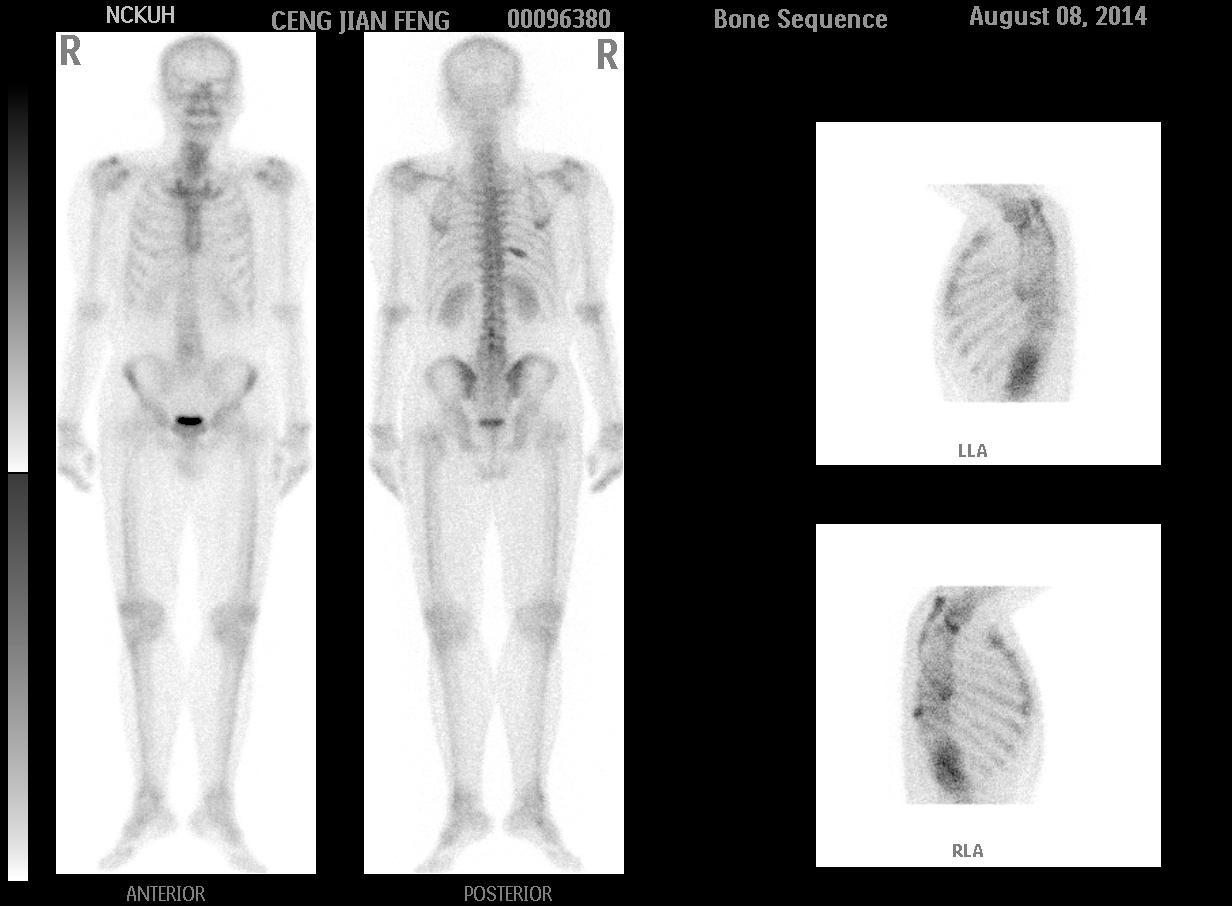person: (55, 30, 625, 875)
